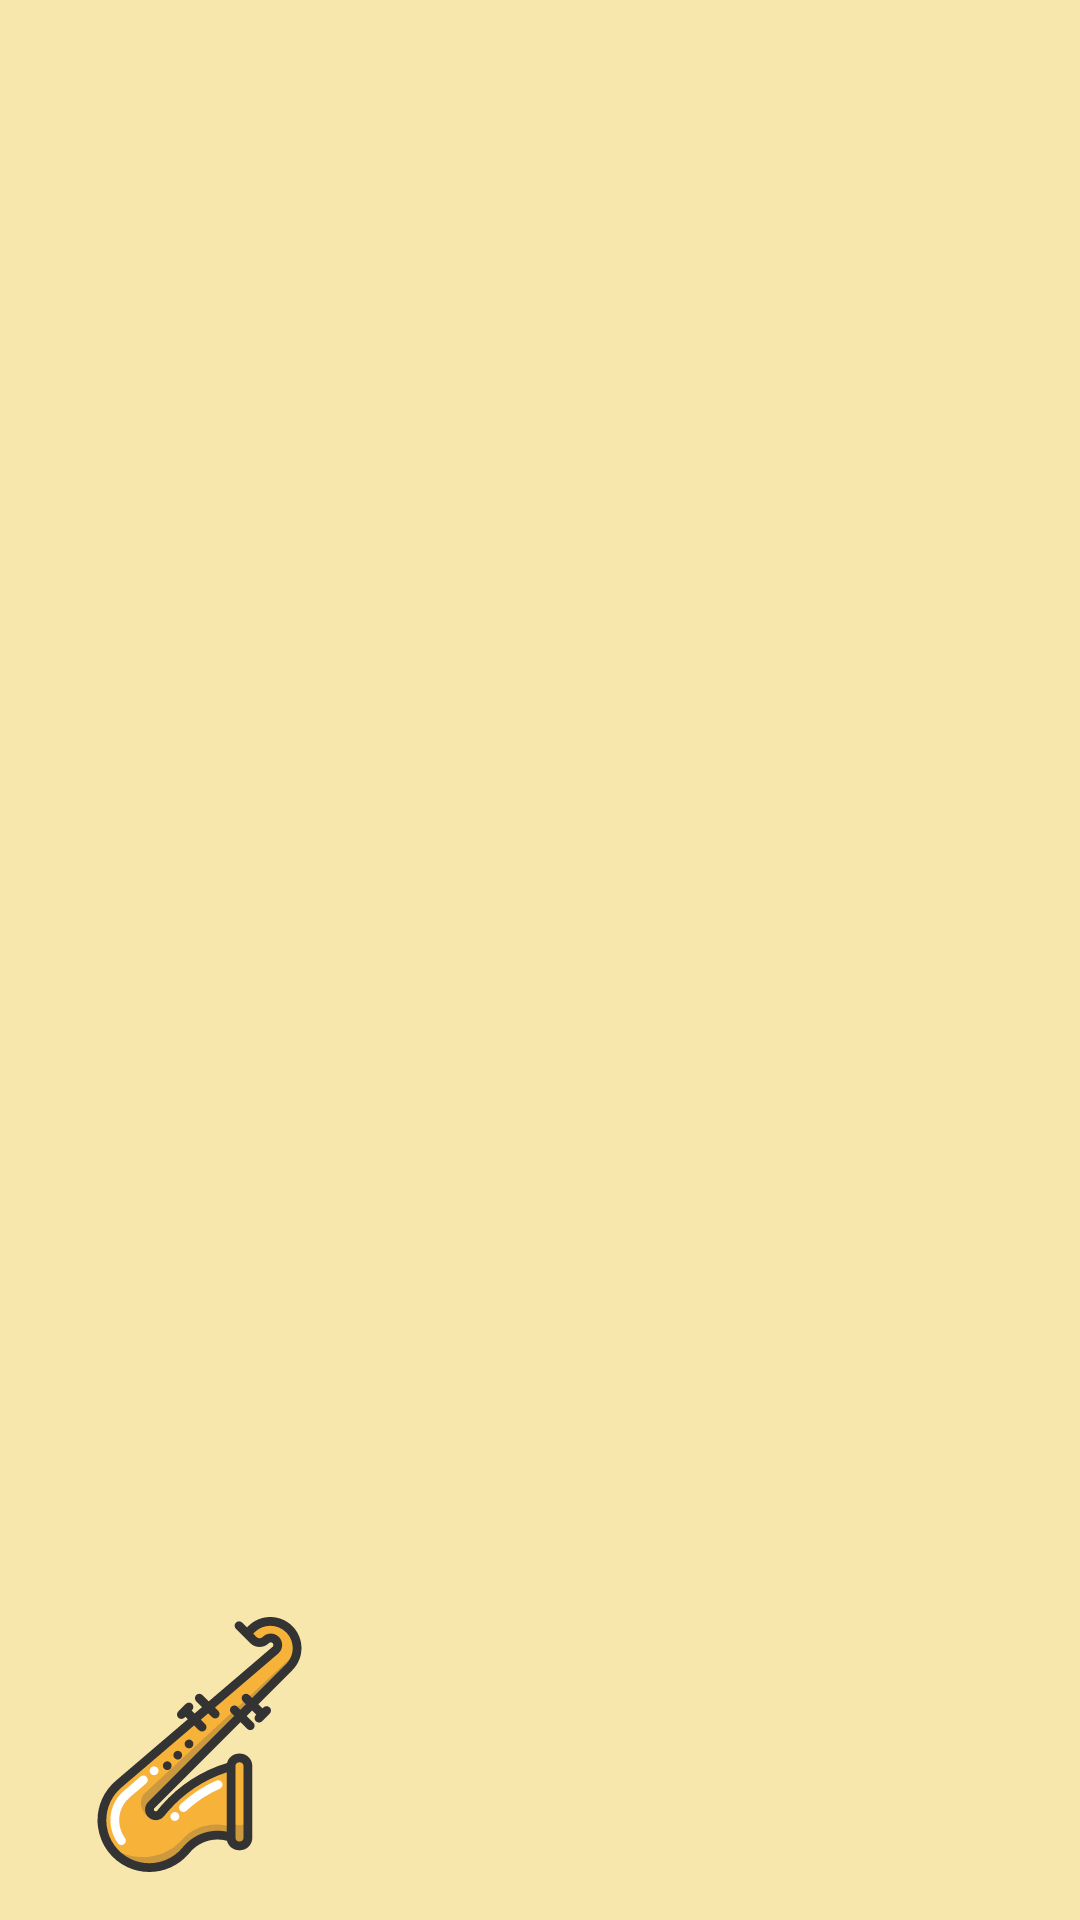

Screen size 1080×1920. Icon name, then its center in pixels as [x,y]:
saxophone: [199,1744]
